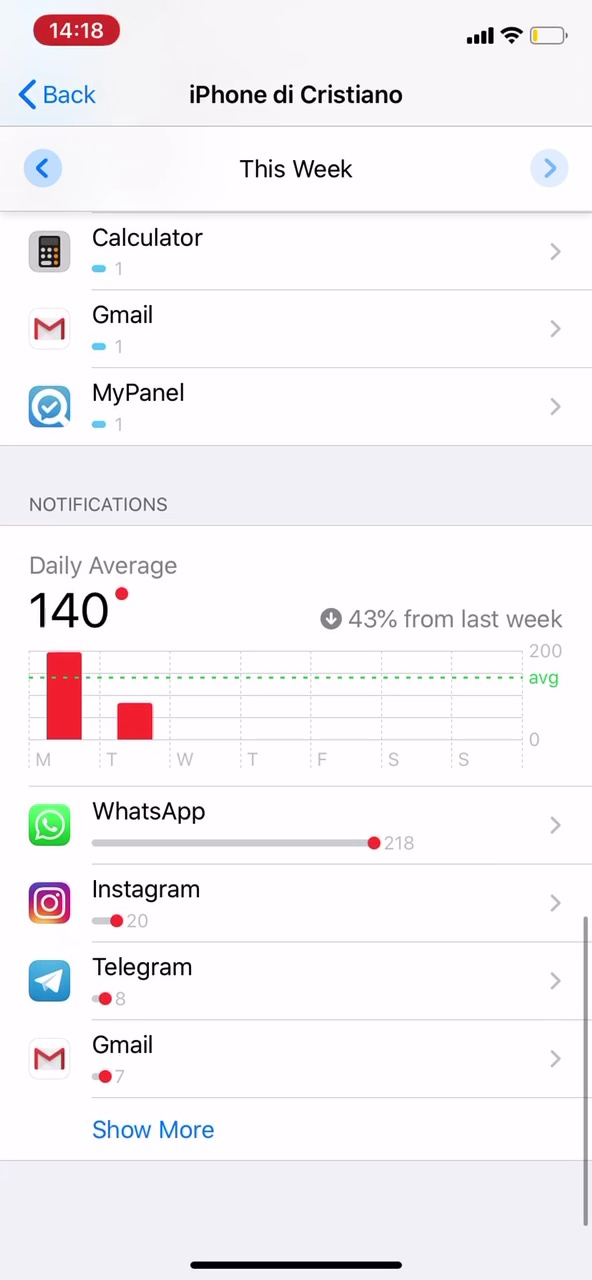not_app: (18, 786, 461, 866), (20, 867, 315, 947), (18, 1024, 301, 1097), (18, 952, 298, 1024)
not_over: (17, 466, 248, 641)
pick_app: (23, 364, 292, 439), (23, 289, 281, 366), (18, 214, 275, 289)
week: (225, 142, 372, 193)
